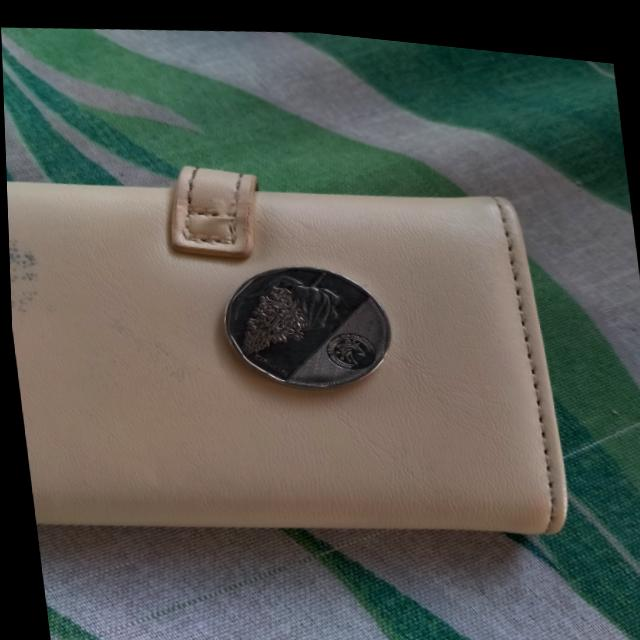10_New_Back: (222, 250, 353, 365)
